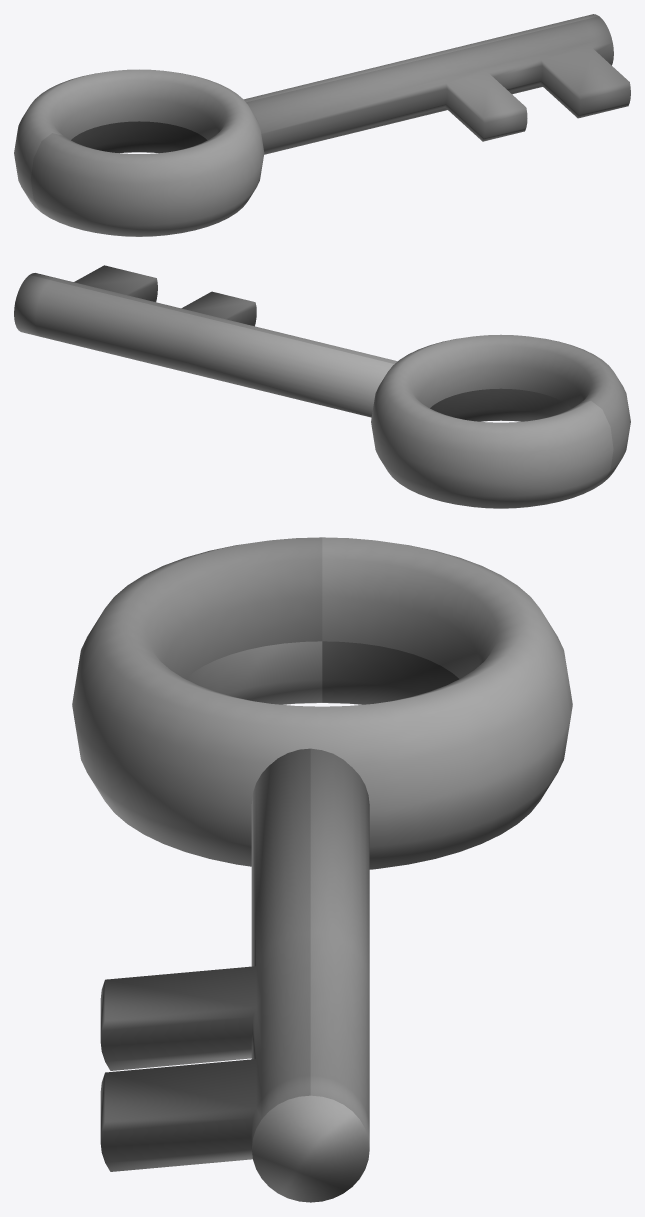
Rendered from Key.fbx.
The picture shows the model from 3 angles, top to bottom: view 1: azimuth 30°, elevation 25°; view 2: azimuth 150°, elevation 25°; view 3: azimuth 270°, elevation 25°; orthographic projection. The views are drawn at different scales.
Visible parts, largest first — view 1: Cylinder.008; view 2: Cylinder.008; view 3: Cylinder.008.
Part boxes in pixels (box(x1,y1,x2,y2)): Cylinder.008: box(14, 14, 630, 236); Cylinder.008: box(14, 265, 630, 508); Cylinder.008: box(72, 537, 572, 1202).
Size of the model in its own units: 737 by 103 by 283.
